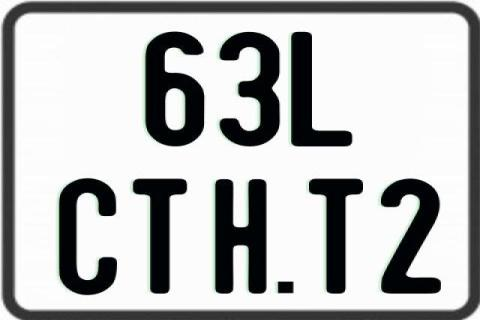0: (143, 29, 207, 147), (219, 31, 282, 145), (381, 177, 441, 293)
C: (59, 177, 123, 297)
H: (213, 178, 269, 296)
L: (288, 30, 354, 150)
T: (130, 179, 188, 297), (306, 176, 362, 294)
